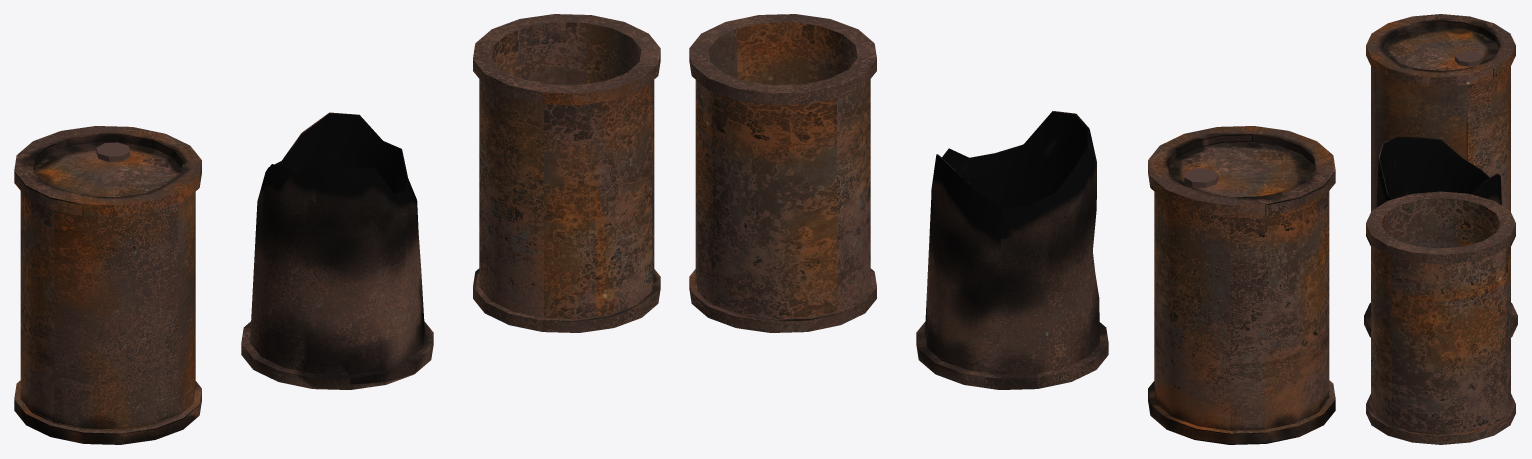
File: barrels.fbx
The picture shows the model from 3 angles, left to right: view 1: azimuth 30°, elevation 25°; view 2: azimuth 150°, elevation 25°; view 3: azimuth 270°, elevation 25°; orthographic projection. The views are drawn at different scales.
Visible parts, largest first — view 1: barrel2, barrel1, explode_barrel; view 2: barrel2, barrel1, explode_barrel; view 3: barrel2, barrel1, explode_barrel.
Boxes of the visible parts, x1,y1,x2,y2 form: barrel2: [473, 14, 660, 332]; barrel1: [14, 126, 201, 444]; explode_barrel: [241, 112, 433, 389]; barrel2: [689, 14, 876, 332]; barrel1: [1148, 126, 1335, 444]; explode_barrel: [916, 111, 1108, 389]; barrel2: [1366, 191, 1515, 444]; barrel1: [1366, 14, 1515, 245]; explode_barrel: [1364, 136, 1517, 337].
Size of the model in its own units: 815 by 300 by 220.
